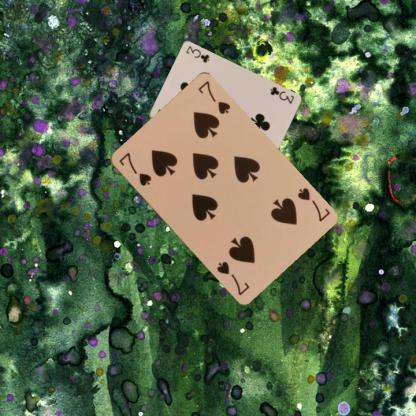3c: (266, 84, 296, 106)
7s: (294, 185, 331, 223), (116, 150, 152, 188)
